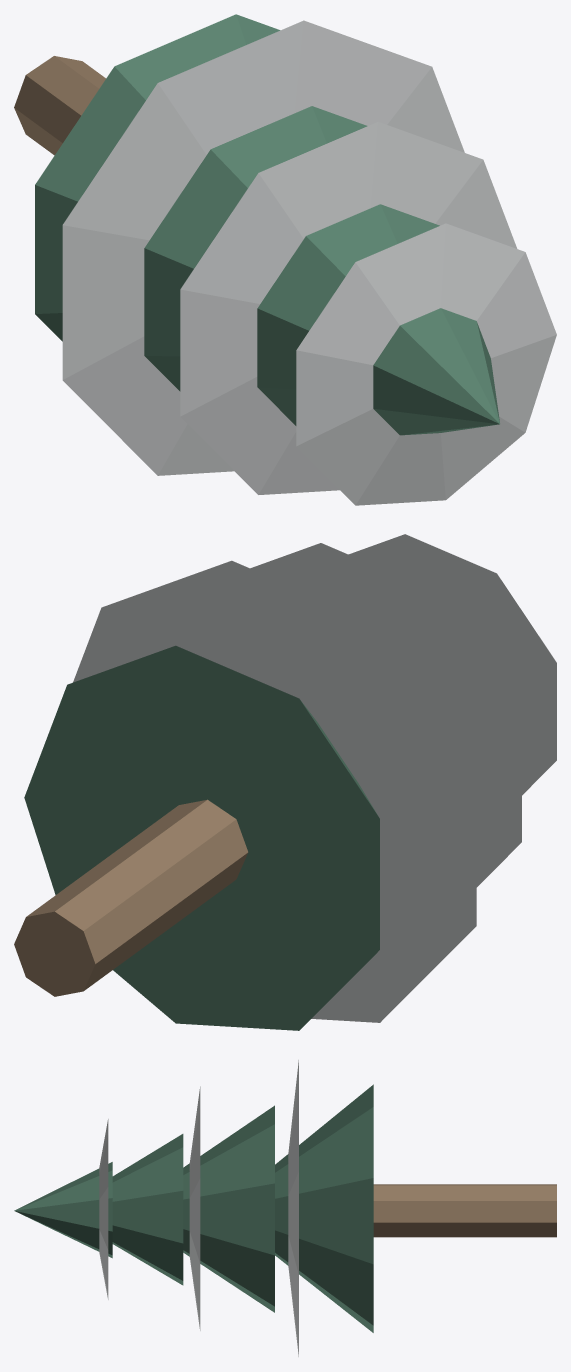
File: pine_tree.glb
3 renders of one model, top to bottom at view 1: azimuth 30°, elevation 25°; view 2: azimuth 150°, elevation 25°; view 3: azimuth 270°, elevation 25°, orthographic. The views are drawn at different scales.
Parts seen in each view (by area): view 1: pine_tree_5, pine_tree_6, pine_tree_7, pine_tree_2, pine_tree_1, pine_tree_4, pine_tree_3, pine_tree_0; view 2: pine_tree_1, pine_tree_5, pine_tree_6, pine_tree_0, pine_tree_7; view 3: pine_tree_1, pine_tree_2, pine_tree_0, pine_tree_3, pine_tree_4, pine_tree_5, pine_tree_6, pine_tree_7.
Part boxes in pixels (x1,y1,x2,y2): pine_tree_5: [62, 20, 464, 475]; pine_tree_6: [180, 121, 517, 494]; pine_tree_7: [296, 223, 556, 505]; pine_tree_2: [144, 106, 367, 391]; pine_tree_1: [35, 14, 280, 341]; pine_tree_4: [373, 308, 499, 435]; pine_tree_3: [257, 204, 439, 425]; pine_tree_0: [14, 56, 105, 155]; pine_tree_1: [24, 645, 379, 1030]; pine_tree_5: [73, 560, 476, 1022]; pine_tree_6: [250, 543, 521, 887]; pine_tree_0: [14, 799, 248, 996]; pine_tree_7: [348, 534, 556, 795]; pine_tree_1: [275, 1084, 373, 1332]; pine_tree_2: [183, 1105, 274, 1312]; pine_tree_0: [373, 1184, 556, 1237]; pine_tree_3: [112, 1134, 183, 1285]; pine_tree_4: [14, 1162, 112, 1258]; pine_tree_5: [288, 1060, 298, 1356]; pine_tree_6: [189, 1086, 200, 1330]; pine_tree_7: [99, 1119, 108, 1299].
Size of the model in its own units: 2.09 by 2.13 by 3.85.
